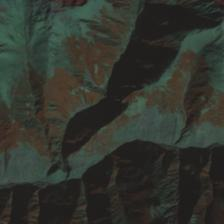landslides: (161, 202, 182, 209), (94, 139, 103, 151), (80, 96, 87, 111)
